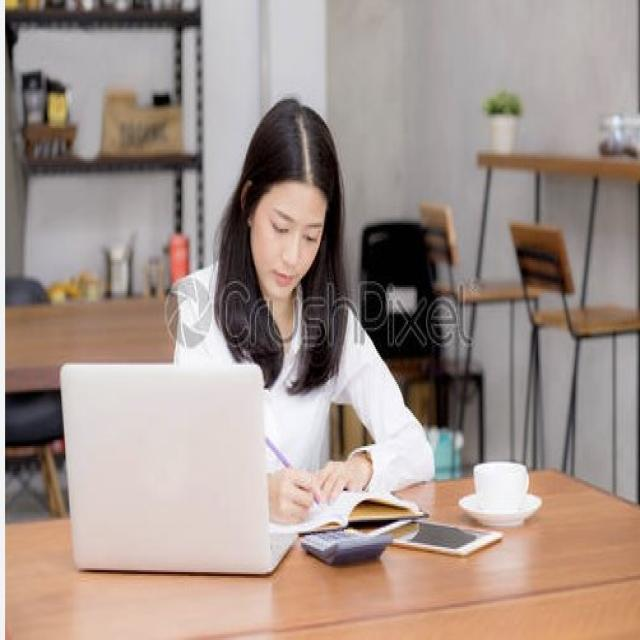studying-person: (159, 74, 451, 539)
